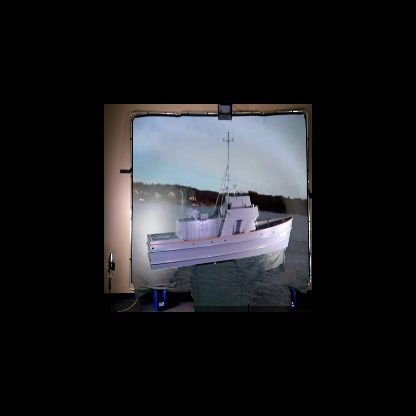YP689: (146, 132, 294, 271)
